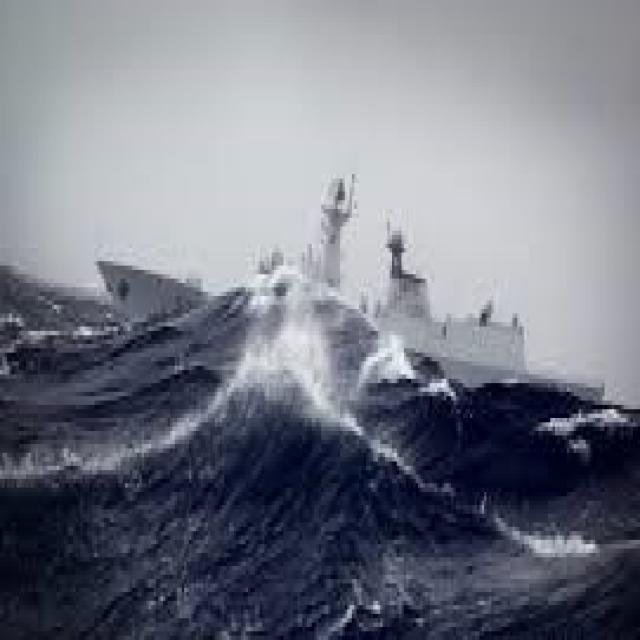navalvessels: (90, 167, 526, 376)
